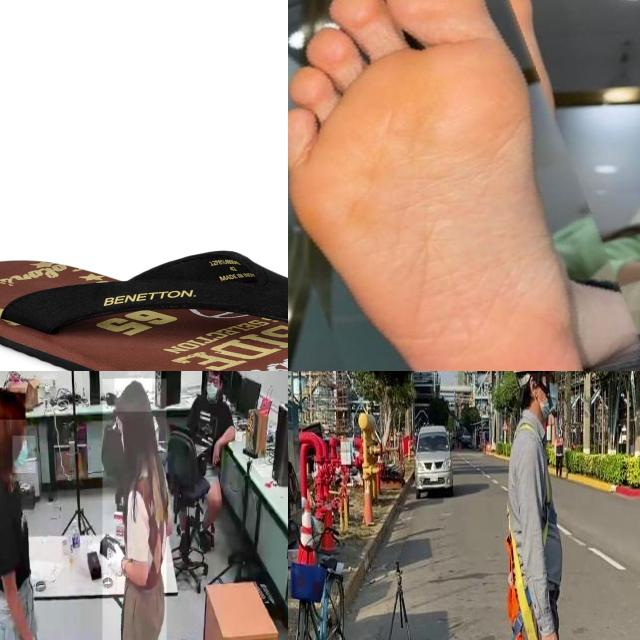Barefoots: (288, 0, 594, 371)
Harness: (506, 533, 539, 640)
Sandals: (0, 248, 288, 371)
face_mask: (12, 436, 36, 473), (203, 375, 225, 402)
hand_glove: (106, 540, 132, 582)
hand_noglove: (211, 438, 221, 466)
head_nohelmet: (114, 378, 152, 412), (0, 387, 25, 420)
person: (102, 379, 167, 640), (0, 394, 64, 640), (188, 371, 235, 533)
